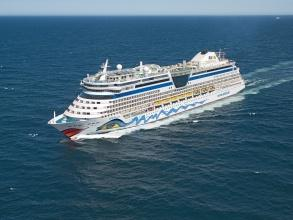youlun: (46, 47, 244, 146)
